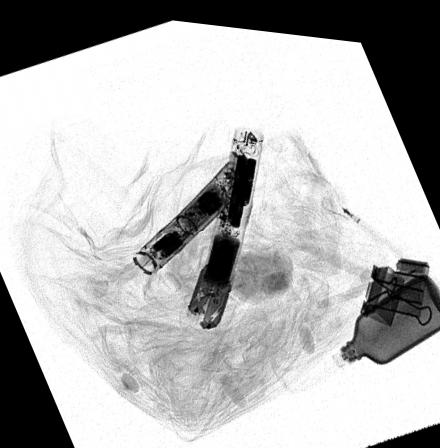Baton: (189, 116, 266, 324), (132, 156, 251, 273)
